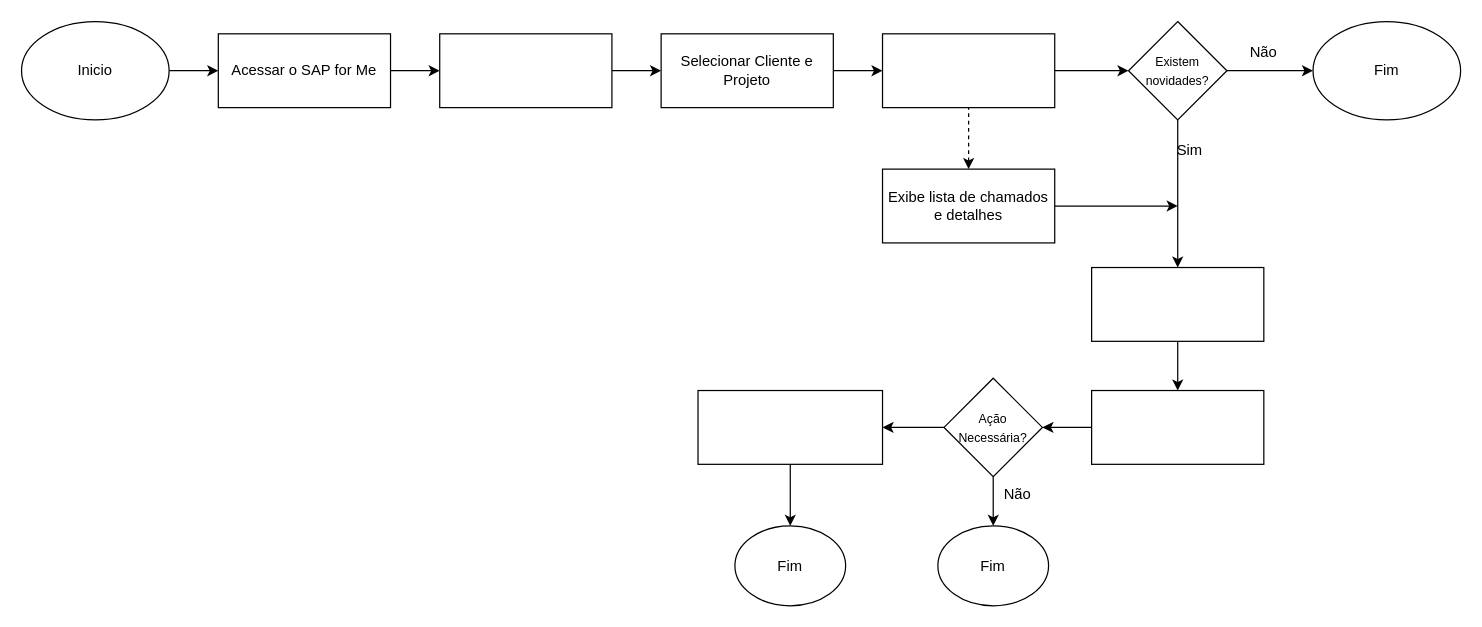
Some shapes in this 1482 by 627 pixel diagram are drawn without their labels. The shapes that lost their labels are listed below. From the top down, each one's box as (x1, y1, x2, y2) in pixels, then its label:
(438, 33, 612, 108): Selecionar S-User
(881, 33, 1055, 108): Consultar Chamados (Cases/Services)
(1090, 266, 1264, 341): Verificar alterações de status, comentários e respostas
(697, 389, 883, 464): Tomar ação / Seguir com tratativas internas ou com a SAP
(1090, 389, 1264, 464): Analisar histórico e acompanhar tratativas
